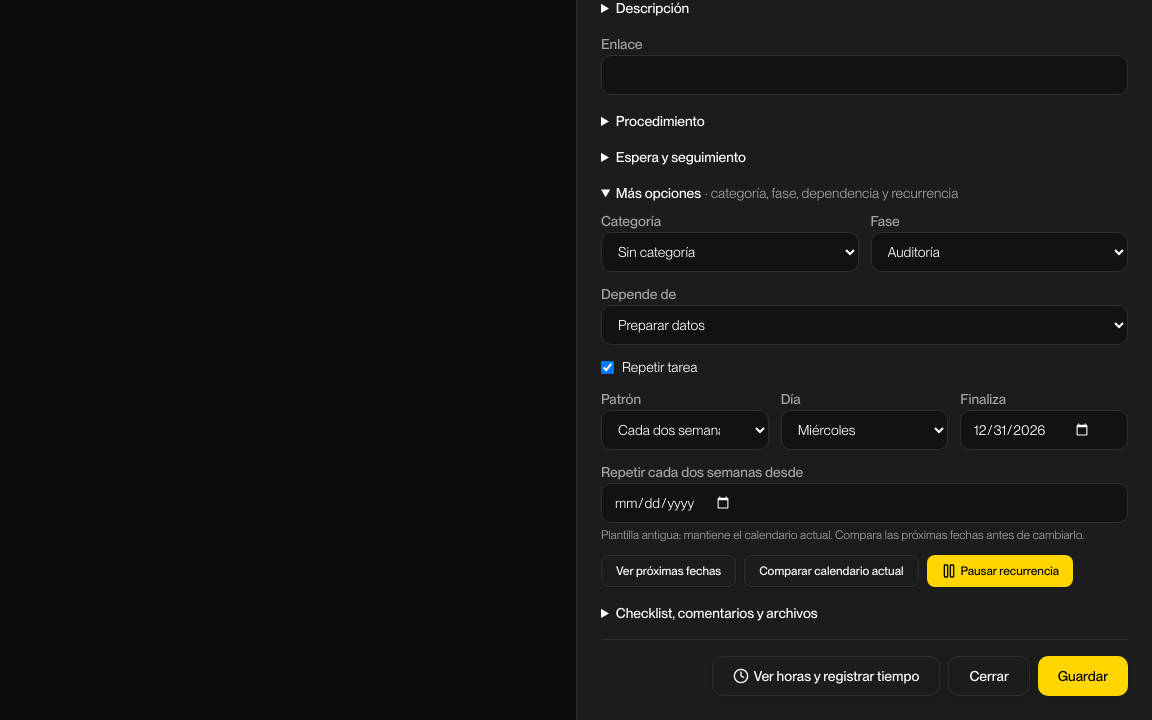
TaskPanel › shows load failures for every secondary source
(page scrolled)
Click the heading "Checklist, comentarios y archivos": (717,613) x1=616 y1=605 x2=818 y2=621
(page scrolled)
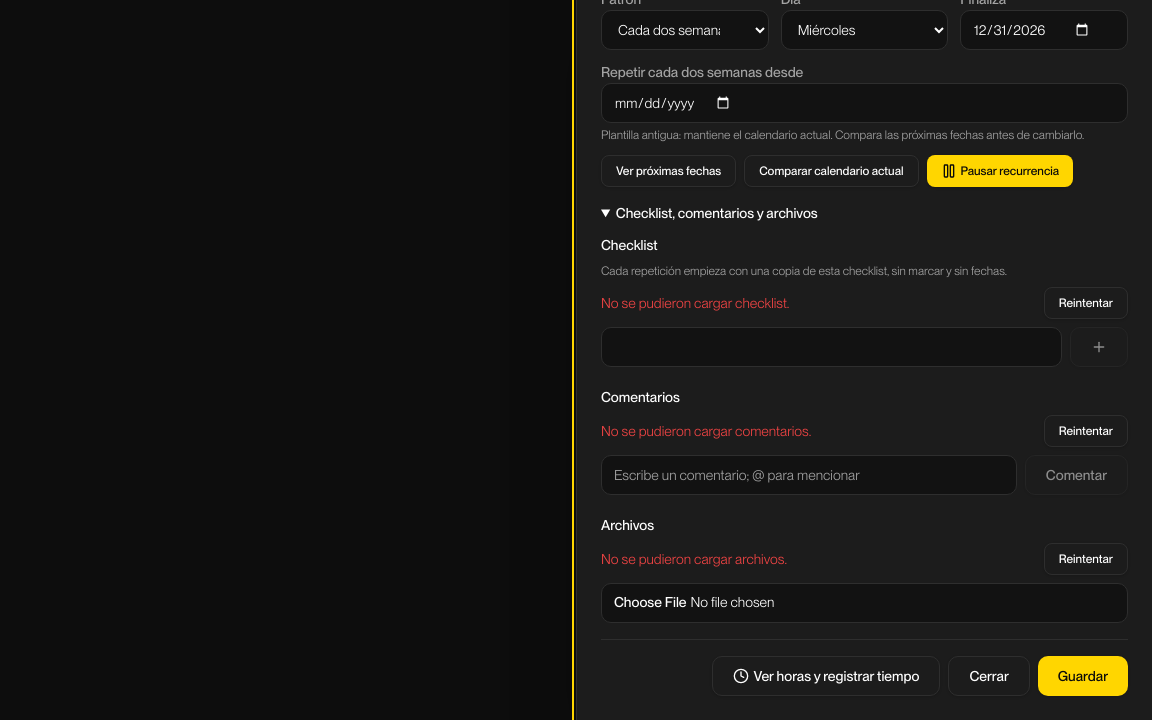
Expected: the text "No se pudieron cargar checklist." is shown, x1=601 y1=293 x2=789 y2=313
Expected: the text "No se pudieron cargar comentarios." is shown, x1=601 y1=421 x2=811 y2=441
Expected: the text "No se pudieron cargar archivos." is shown, x1=601 y1=549 x2=787 y2=569
